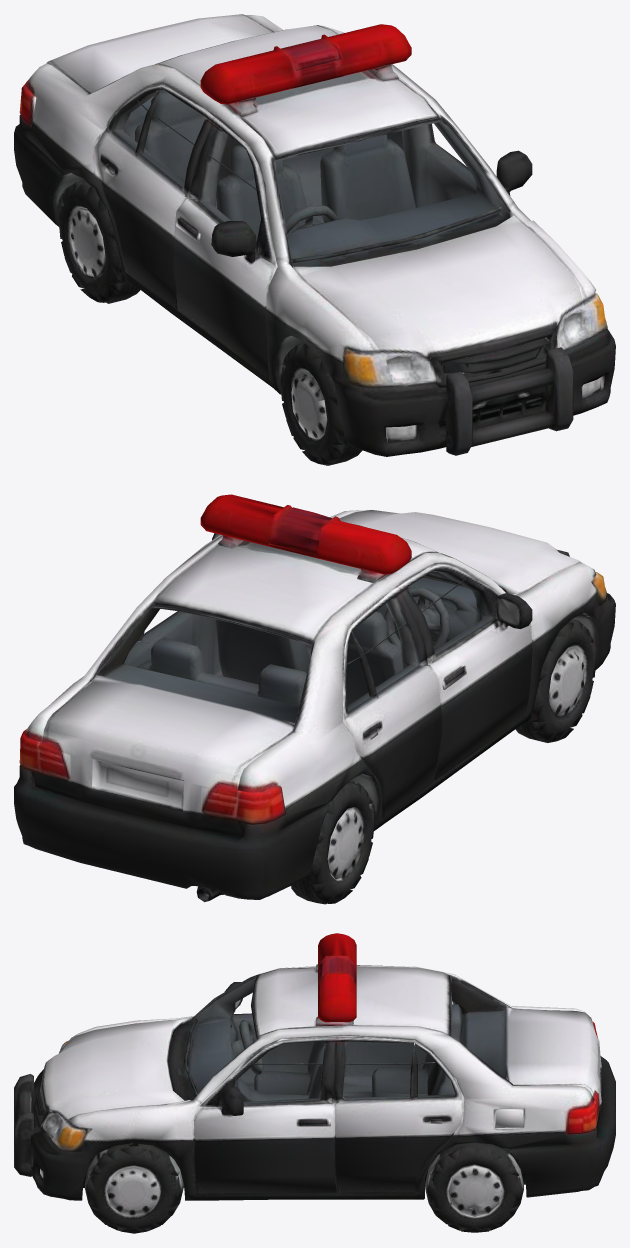
Rendered from car_police_hd.glb.
3 renders of one model, top to bottom at view 1: azimuth 30°, elevation 25°; view 2: azimuth 150°, elevation 25°; view 3: azimuth 270°, elevation 25°, orthographic. The views are drawn at different scales.
Parts seen in each view (by area): view 1: tripo_node_93332949-ca48-45e4-a1b8-5a51c699a54f; view 2: tripo_node_93332949-ca48-45e4-a1b8-5a51c699a54f; view 3: tripo_node_93332949-ca48-45e4-a1b8-5a51c699a54f.
Part boxes in pixels (bbox=[...]): tripo_node_93332949-ca48-45e4-a1b8-5a51c699a54f: bbox=[14, 14, 615, 465]; tripo_node_93332949-ca48-45e4-a1b8-5a51c699a54f: bbox=[14, 494, 615, 904]; tripo_node_93332949-ca48-45e4-a1b8-5a51c699a54f: bbox=[14, 933, 615, 1233].
Size of the model in its own units: 0.4575 by 0.4 by 0.9781.
Materials: 1 (1 with a texture image).
